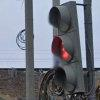traffic lights: (46, 1, 86, 94)
